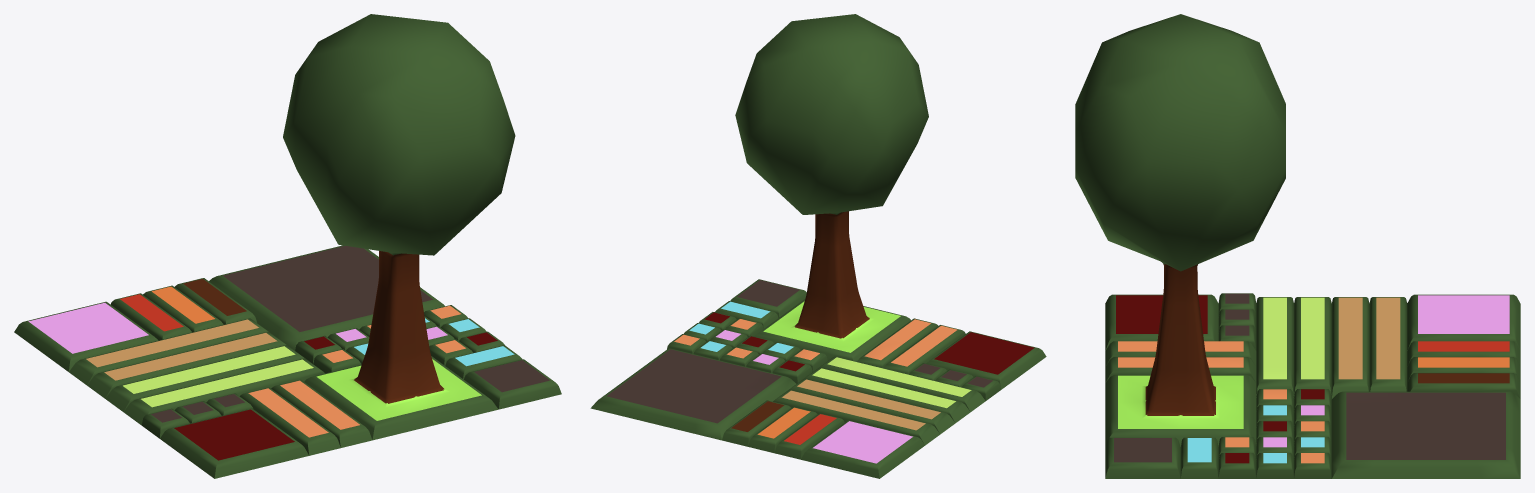
File: AgriculturePermaculture.fbx
3 renders of one model, left to right at view 1: azimuth 30°, elevation 25°; view 2: azimuth 150°, elevation 25°; view 3: azimuth 270°, elevation 25°, orthographic. The views are drawn at different scales.
Visible parts, largest first — view 1: AgriculturePermaCulture; view 2: AgriculturePermaCulture; view 3: AgriculturePermaCulture.
Boxes of the visible parts, x1,y1,x2,y2 form: AgriculturePermaCulture: (14,14,561,478); AgriculturePermaCulture: (590,14,1046,478); AgriculturePermaCulture: (1075,14,1520,478).
Bounding box in the file's own units: 1000 × 1001 × 1072.
